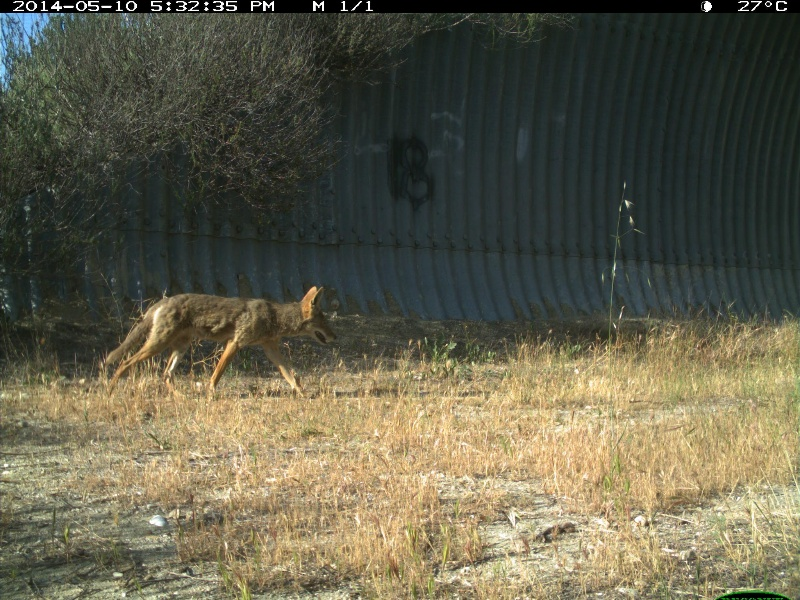coyote: (96, 282, 339, 409)
